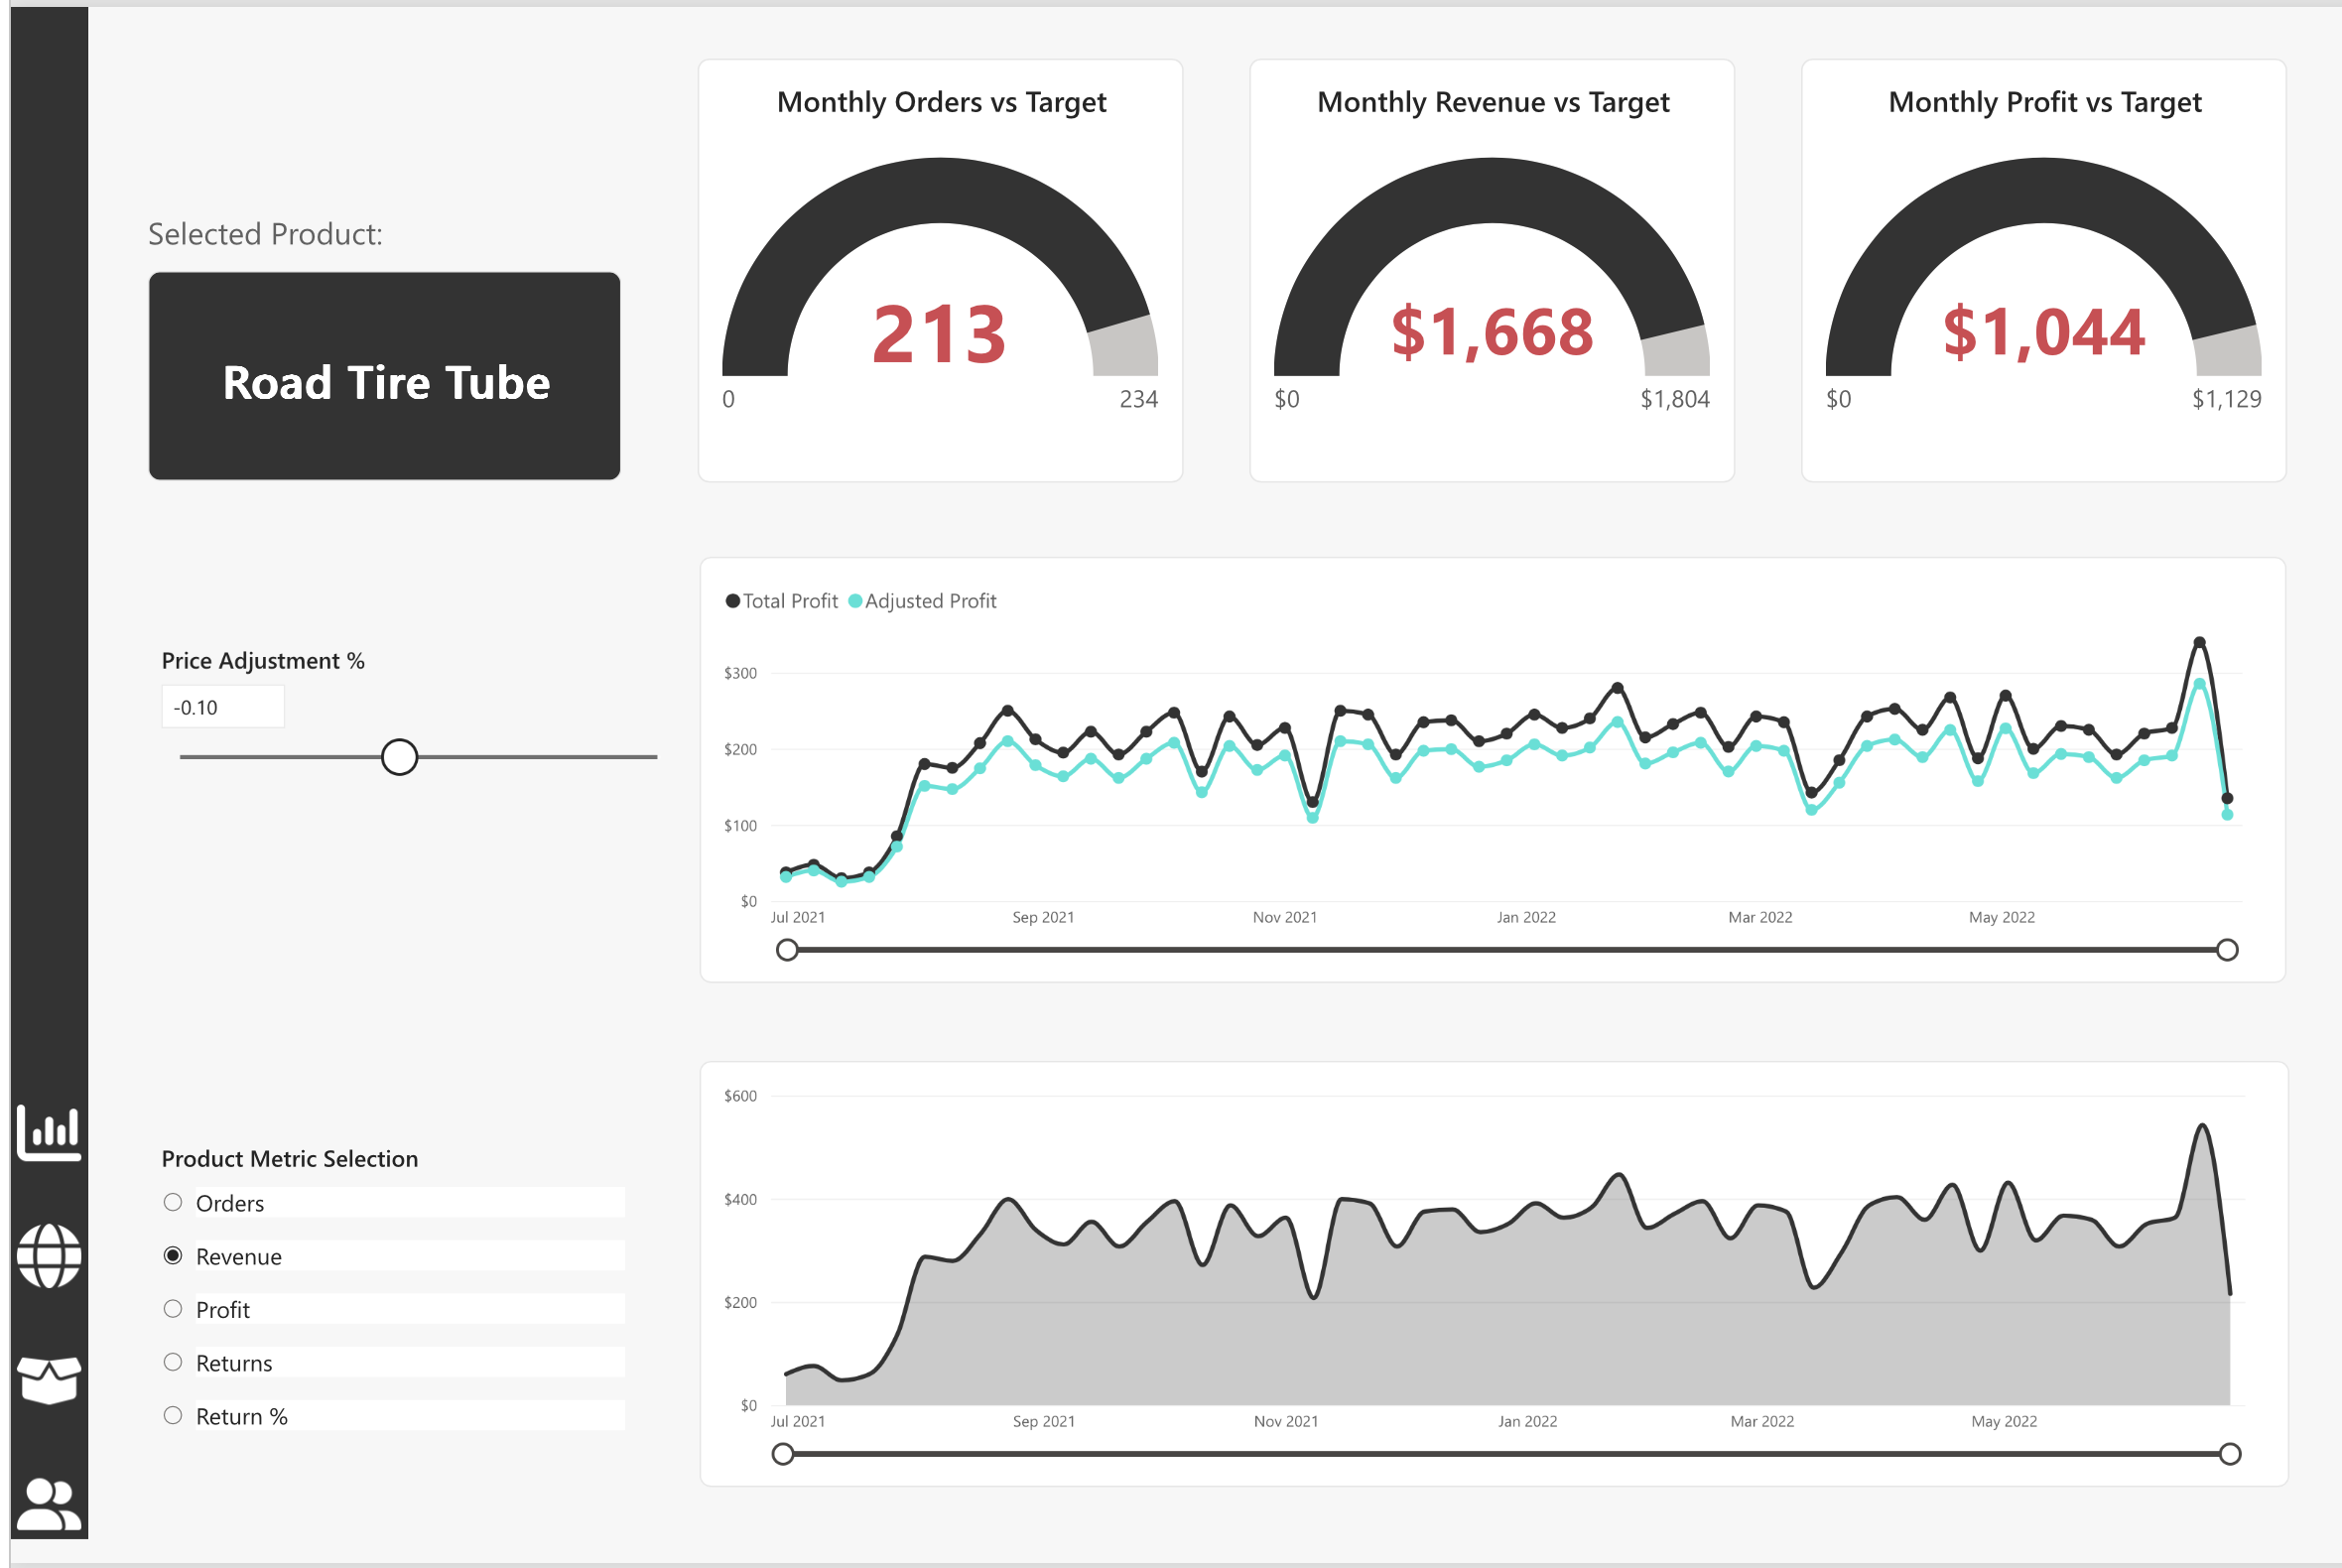

This screenshot's page, from the dashboard's own definition file:
{"tool":"powerbi","page":{"name":"Product Detail","canvas":[1920,1080],"ordinal":2},"visuals":[{"type":"shape","box":[0,0,54,1064],"z":0},{"type":"gauge","title":"Monthly Orders vs Target","fields":{"MaxValue":["Measure Table.Order Target"],"Y":["Measure Table.Total Orders"]},"box":[477.1,35.3,337.3,294.1],"z":1000},{"type":"actionButton","box":[0,827.5,53.2,80.9],"z":1000,"group":"g1"},{"type":"gauge","title":"Monthly Revenue vs Target","fields":{"MaxValue":["Measure Table.Revenue Target"],"Y":["Measure Table.Total Revenue"]},"box":[860.1,35.3,337.3,294.1],"z":2000},{"type":"actionButton","box":[0,913.3,53.2,80.9],"z":2000,"group":"g1"},{"type":"gauge","title":"Monthly Profit vs Target","fields":{"MaxValue":["Measure Table.Profit Target"],"Y":["Measure Table.Total Profit"]},"box":[1243.1,35.3,337.3,294.1],"z":3000},{"type":"actionButton","box":[0,741.7,53.2,80.9],"z":3000,"group":"g1"},{"type":"lineChart","title":"Profit Trending","fields":{"Category":["Calendar Lookup.Date Hierarchy.Start of Year","Calendar Lookup.Date Hierarchy.Start of Month","Calendar Lookup.Date Hierarchy.Start of Week","Calendar Lookup.Date Hierarchy.Date"],"Y":["Measure Table.Total Profit","Measure Table.Adjusted Profit"]},"box":[478,382,1102,296],"z":4000},{"type":"actionButton","box":[0,999.1,53.2,80.9],"z":4000,"group":"g1"},{"type":"areaChart","title":"Returns Trending","fields":{"Category":["Calendar Lookup.Date Hierarchy.Start of Year","Calendar Lookup.Date Hierarchy.Start of Month","Calendar Lookup.Date Hierarchy.Start of Week","Calendar Lookup.Date Hierarchy.Date"],"Y":["Measure Table.Total Revenue"]},"box":[478,732,1104,296],"z":5000},{"type":"cardVisual","fields":{"Data":["Min(Product Lookup.ProductName)"]},"box":[95.1,182.9,329.3,146.3],"z":6000},{"type":"textbox","box":[95.1,141.5,222,41.5],"z":7000},{"type":"group","id":"g1","title":"Navigation Buttons","box":[0,741.7,53.7,339.1],"z":8000},{"type":"slicer","fields":{"Values":["Price Adjustment %.Price Adjustment %"]},"box":[96,442,370.9,178.1],"z":9000},{"type":"slicer","fields":{"Values":["Product Metric Selection.Product Metric Selection"]},"box":[96,788,330,240],"z":10000}]}

Visuals, with their boxes on the page's 1920x1080 design canvas (x1, y1, x2, y2). These are canvas units, not pixel positions in the 2342x1568 screenshot, which may show the page scaled, cropped or inside an application window:
shape: {"left": 0, "top": 0, "right": 54, "bottom": 1064}
"Monthly Orders vs Target" gauge: {"left": 477, "top": 35, "right": 814, "bottom": 329}
actionButton: {"left": 0, "top": 828, "right": 53, "bottom": 908}
"Monthly Revenue vs Target" gauge: {"left": 860, "top": 35, "right": 1197, "bottom": 329}
actionButton: {"left": 0, "top": 913, "right": 53, "bottom": 994}
"Monthly Profit vs Target" gauge: {"left": 1243, "top": 35, "right": 1580, "bottom": 329}
actionButton: {"left": 0, "top": 742, "right": 53, "bottom": 823}
"Profit Trending" lineChart: {"left": 478, "top": 382, "right": 1580, "bottom": 678}
actionButton: {"left": 0, "top": 999, "right": 53, "bottom": 1080}
"Returns Trending" areaChart: {"left": 478, "top": 732, "right": 1582, "bottom": 1028}
cardVisual - Min(Product Lookup.ProductName): {"left": 95, "top": 183, "right": 424, "bottom": 329}
textbox: {"left": 95, "top": 142, "right": 317, "bottom": 183}
"Navigation Buttons" group: {"left": 0, "top": 742, "right": 54, "bottom": 1081}
slicer - Price Adjustment %.Price Adjustment %: {"left": 96, "top": 442, "right": 467, "bottom": 620}
slicer - Product Metric Selection.Product Metric Selection: {"left": 96, "top": 788, "right": 426, "bottom": 1028}
